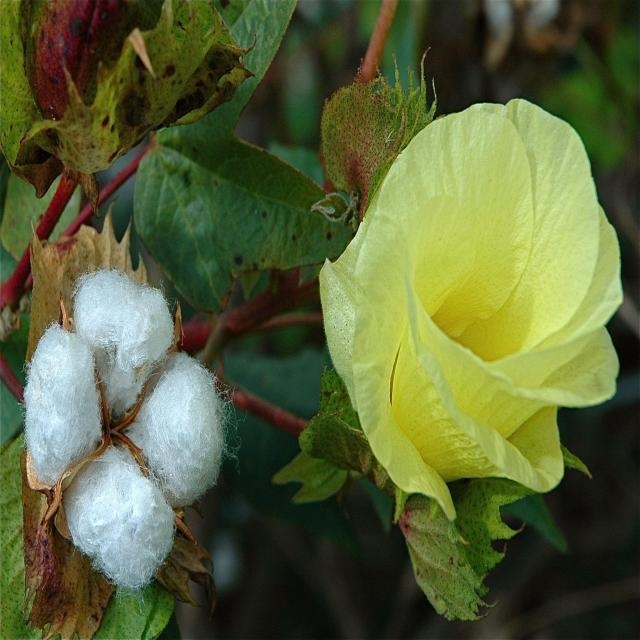Early_blight: (22, 266, 230, 598)
